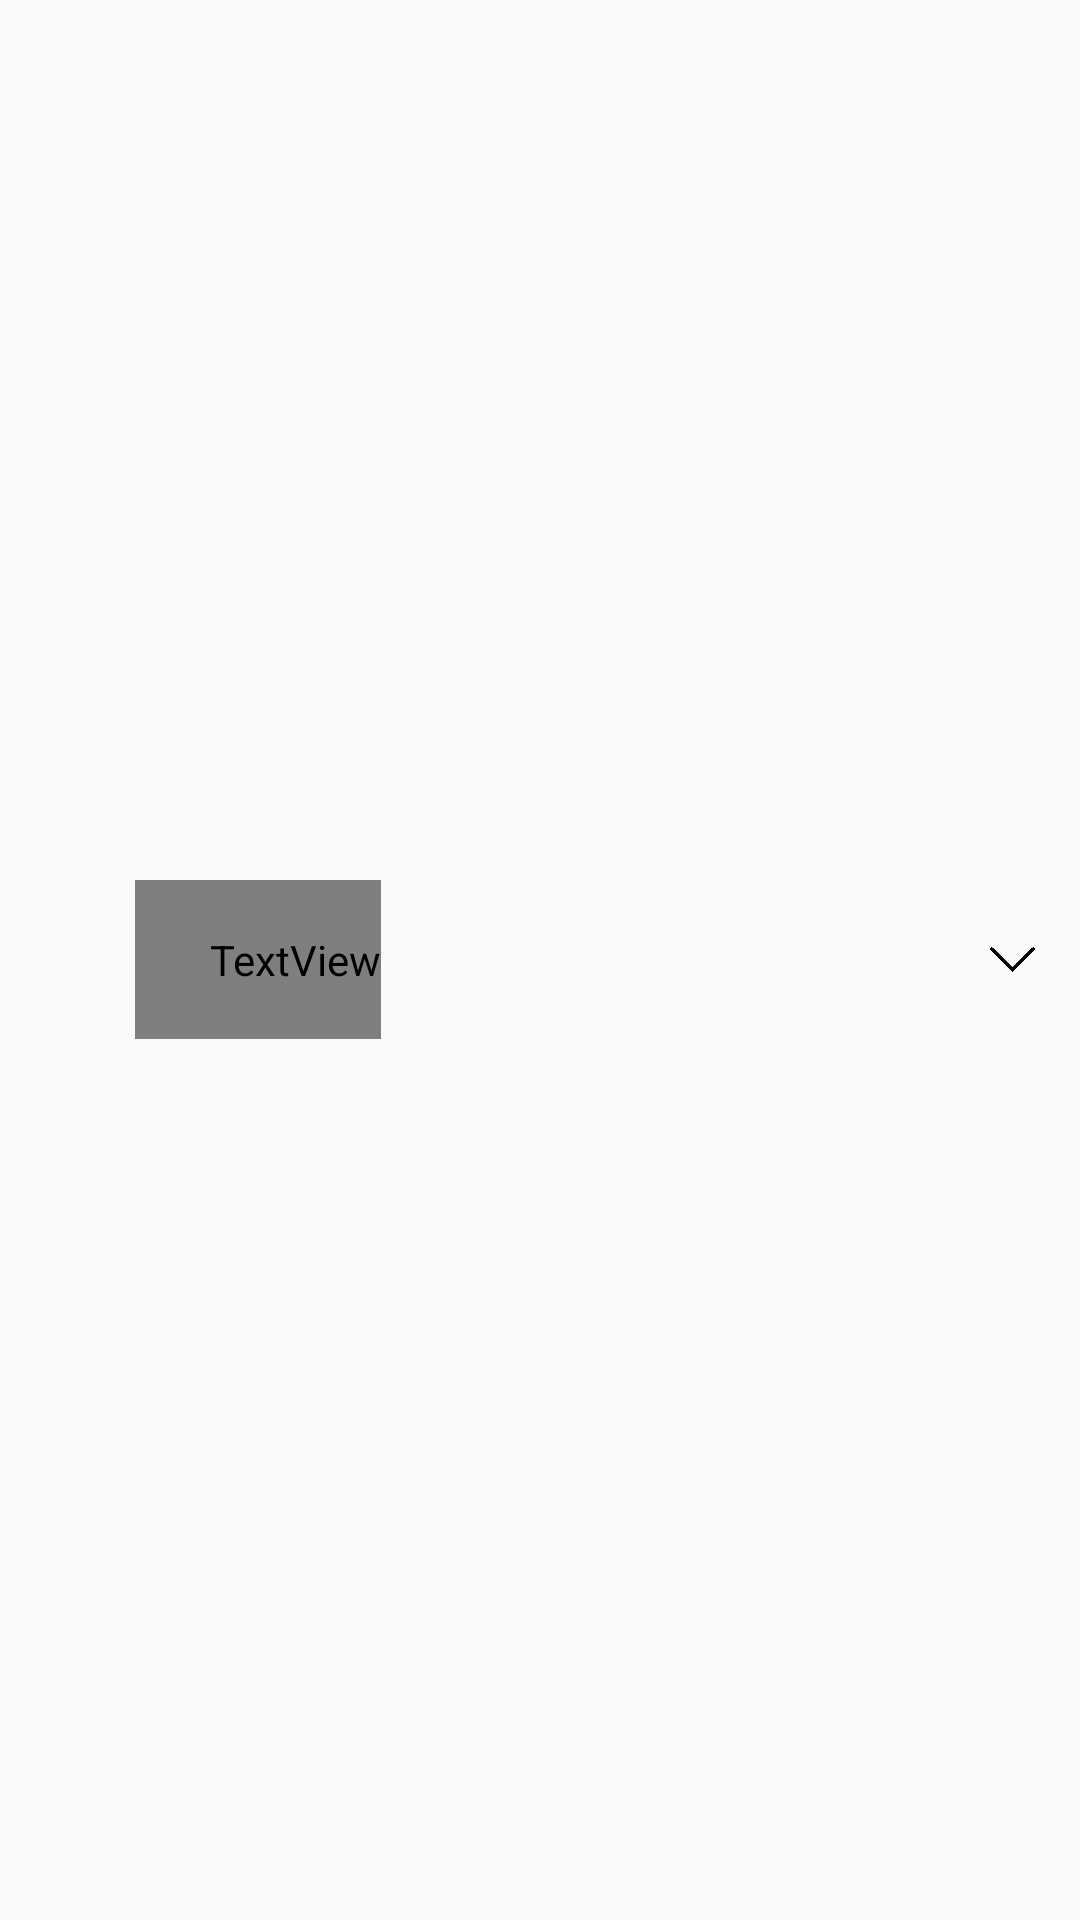

Named icons in this screenshot (1080px×1920px) and their bounding boxes, (x1, y1, x2, y2):
down: (990, 947, 1035, 972)
